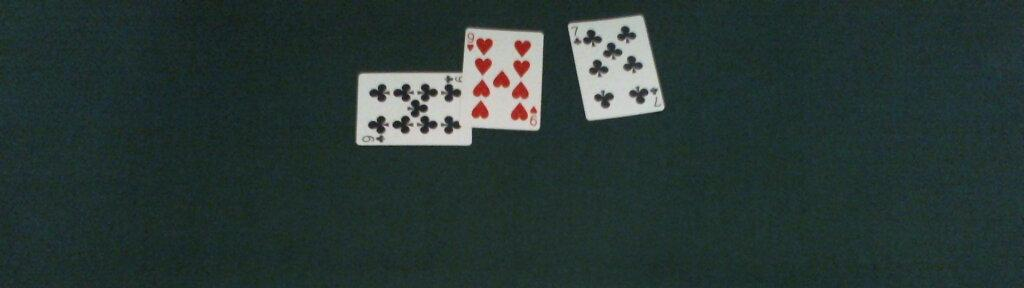nine: (355, 71, 472, 146), (462, 27, 544, 132)
seven: (566, 13, 665, 120)
